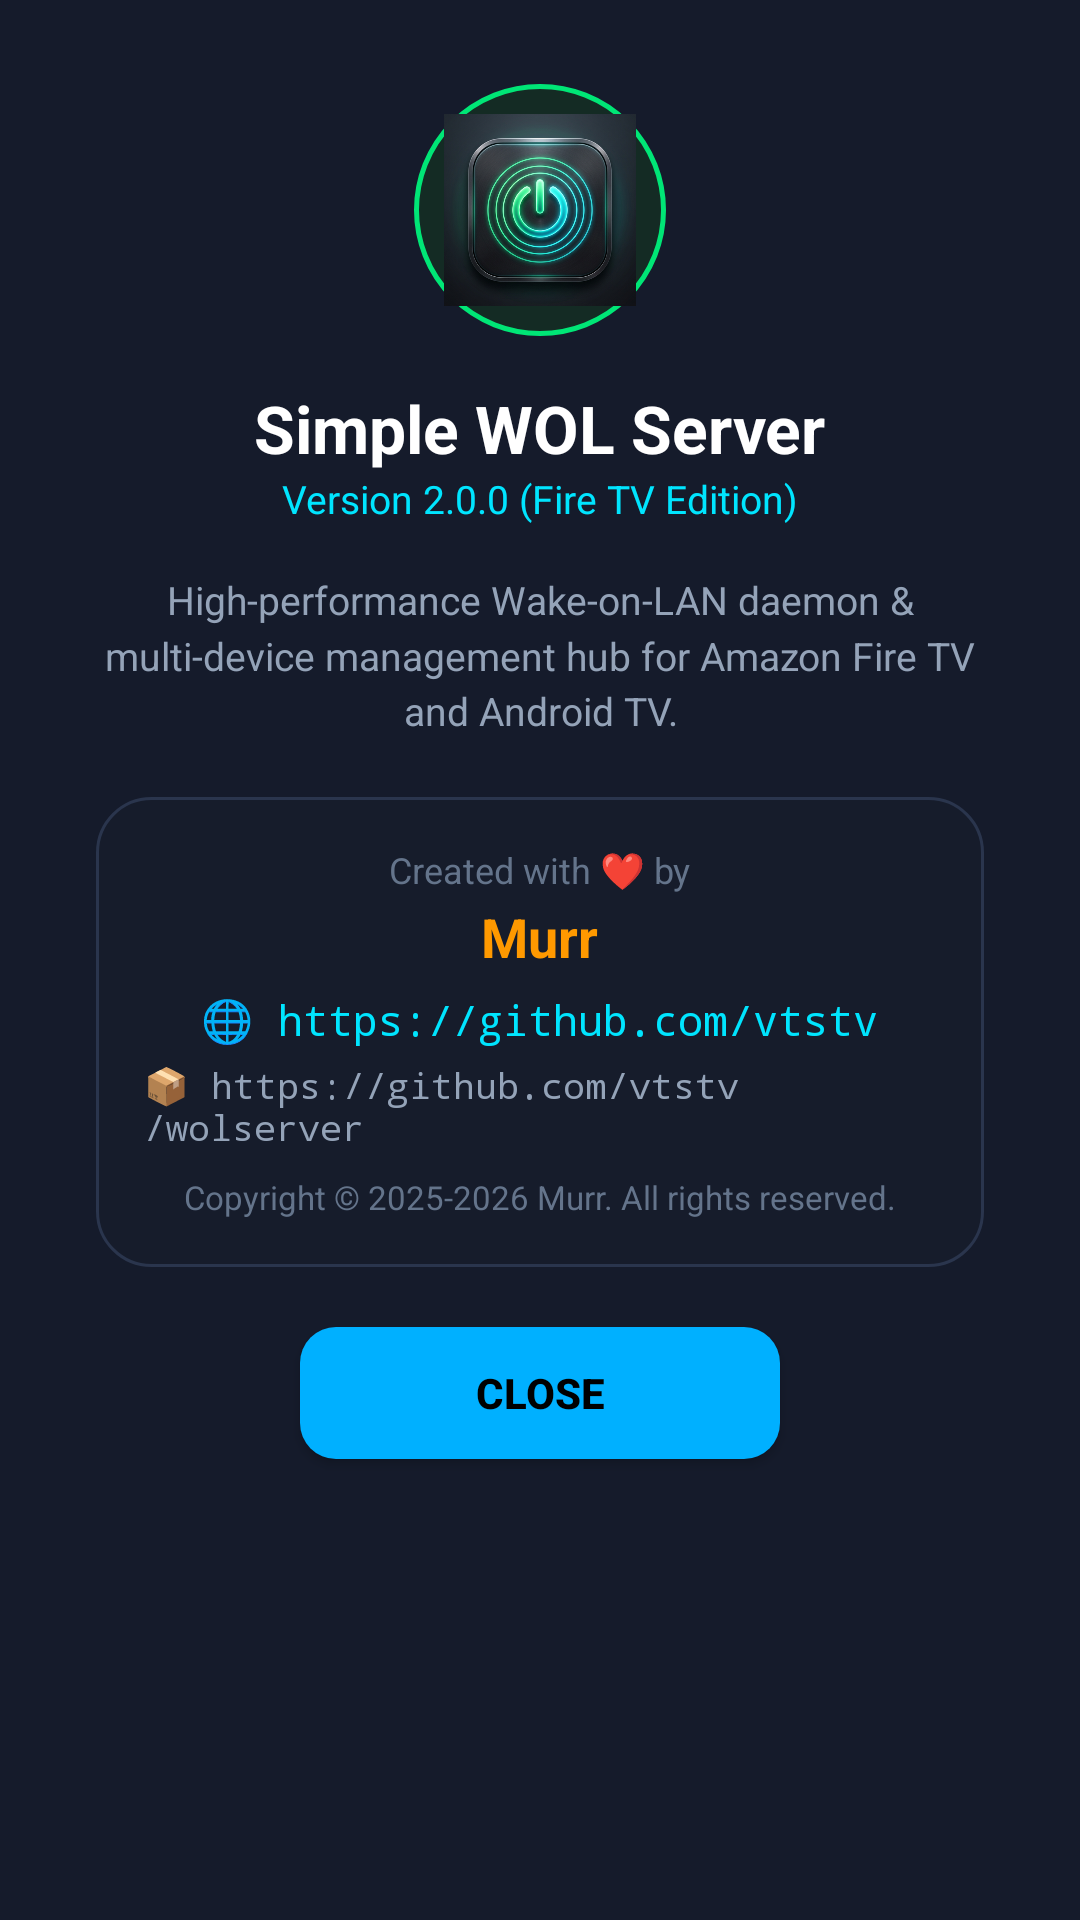

Named icons in this screenshot (1080w x 1920h) and their centers, point (x, y):
wol firetv: point (540, 210)
